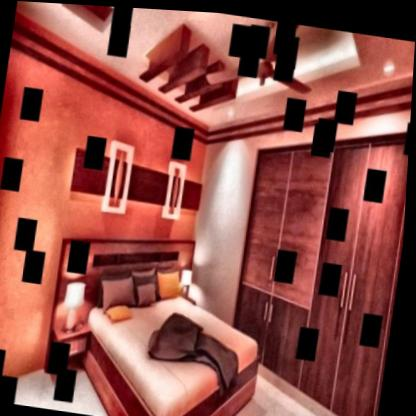Bed: (85, 260, 277, 416)
Closet: (297, 126, 411, 416), (222, 132, 342, 390)
Gypsum Board: (12, 1, 415, 143)
Lamp: (58, 272, 96, 338)
